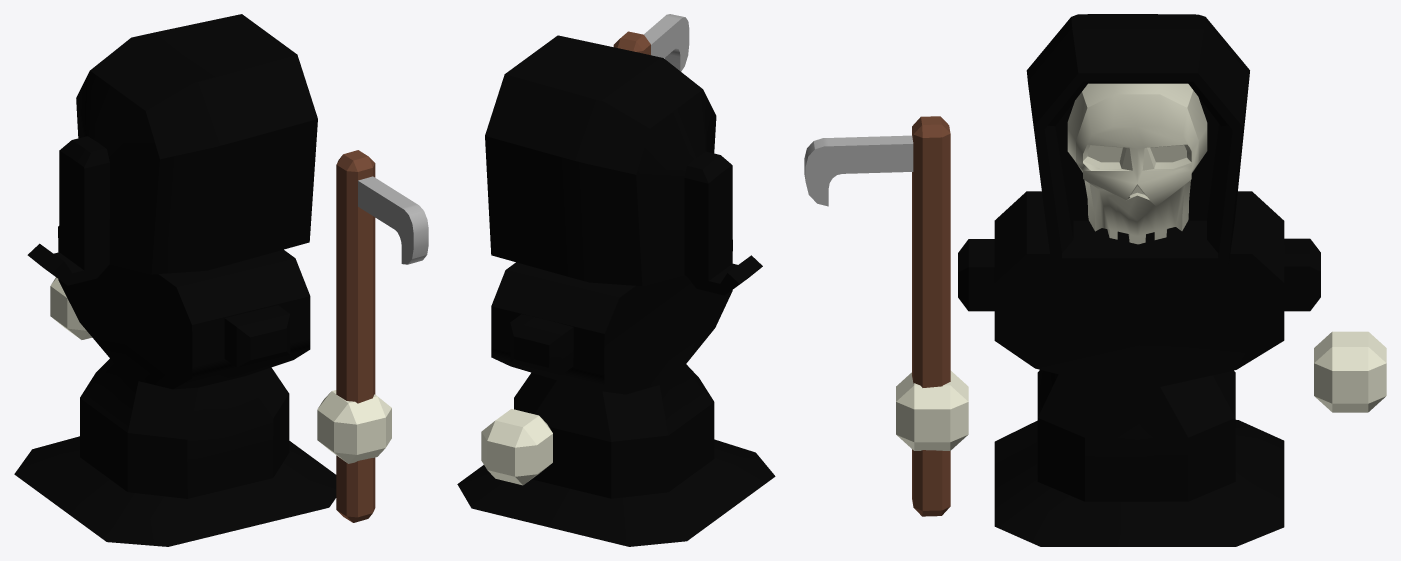
Rendered from morte_texturizada.fbx.
3 views of the same model, side by side, from view 1: azimuth 30°, elevation 25°; view 2: azimuth 150°, elevation 25°; view 3: azimuth 270°, elevation 25° (orthographic). The views are drawn at different scales.
Visible parts, largest first — view 1: pCube1, pCube5, pCube3, pCube4; view 2: pCube1, pCube4, pCube5; view 3: pCube1, pCube2, pCube5, pCube4, pCube3.
Part boxes in pixels (x1,y1,x2,y2): pCube1: (14,14,336,546); pCube5: (336,150,428,522); pCube3: (317,390,391,463); pCube4: (50,277,91,339); pCube1: (457,35,775,546); pCube4: (481,409,552,485); pCube5: (613,14,689,71); pCube1: (958,14,1320,546); pCube2: (1067,83,1207,244); pCube5: (804,116,950,516); pCube4: (1314,331,1386,412); pCube3: (896,370,968,450).
Bounding box in the file's own units: 11.27 × 17.4 × 20.09.
